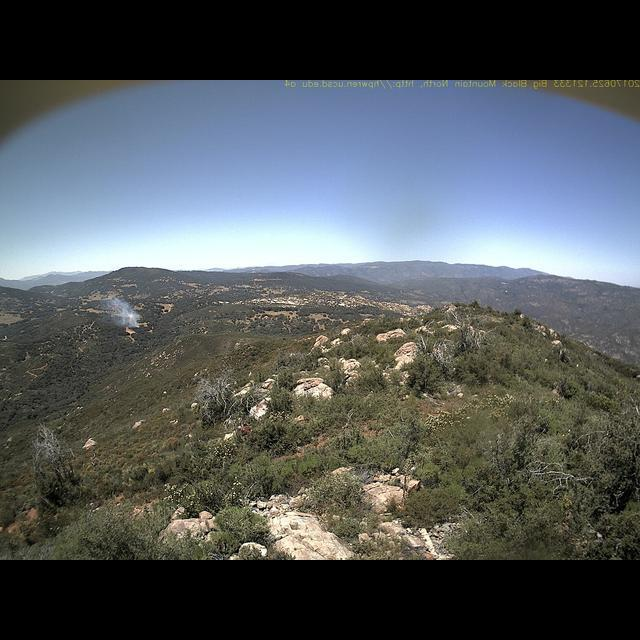Smoke: (102, 288, 148, 331)
